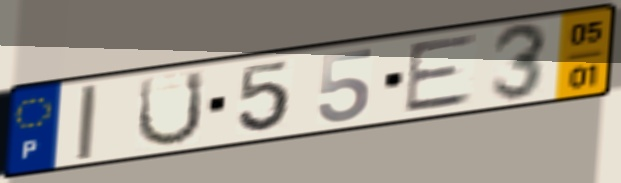3: (488, 19, 551, 107)
5: (233, 57, 296, 136), (314, 45, 376, 124)
E: (400, 30, 482, 116)
I: (74, 81, 101, 164)
U: (133, 67, 208, 150)
